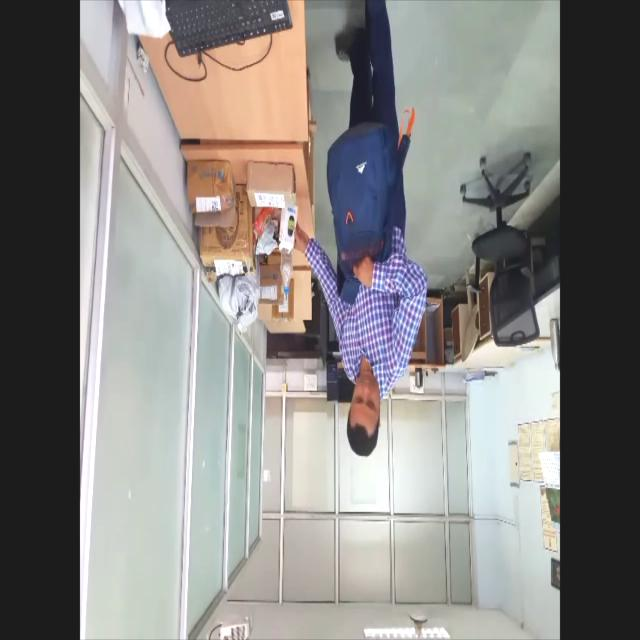shoplifting: (310, 0, 434, 478)
